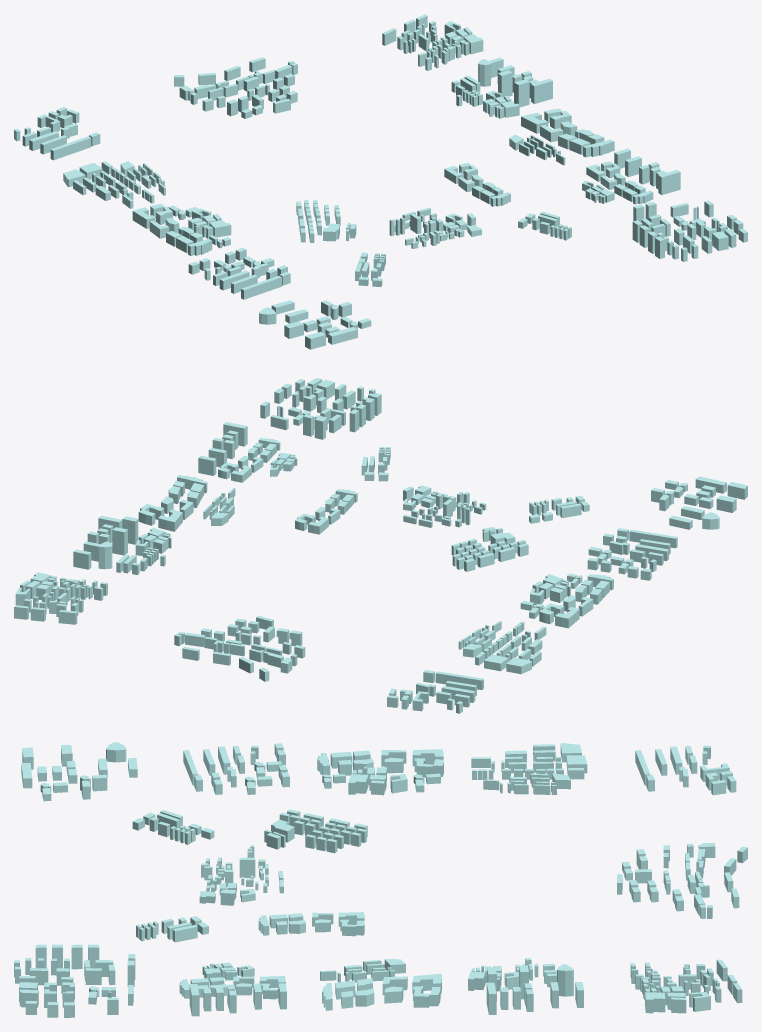
File: industrial-01.glb
3 renders of one model, top to bottom at view 1: azimuth 30°, elevation 25°; view 2: azimuth 150°, elevation 25°; view 3: azimuth 270°, elevation 25°, orthographic. The views are drawn at different scales.
Parts seen in each view (by area): view 1: Areas:building.018, Areas:building.001, Areas:building.020, Areas:building.021, Areas:building.010, Areas:building.009, Areas:building.023, Areas:building.011, Areas:building.016, Areas:building.015, Areas:building.062, Areas:building.027 (+11 smaller); view 2: Areas:building.018, Areas:building.021, Areas:building.001, Areas:building.023, Areas:building.009, Areas:building.010, Areas:building.020, Areas:building.011, Areas:building.015, Areas:building.016, Areas:building.025, Areas:building.062 (+11 smaller); view 3: Areas:building.018, Areas:building.020, Areas:building.010, Areas:building.001, Areas:building.011, Areas:building.023, Areas:building.025, Areas:building.009, Areas:building.027, Areas:building.021, Areas:building.022, Areas:building.016 (+16 smaller).
Boxes of the visible parts, left/top/right/bottom form: Areas:building.018: left=382, top=14, right=483, bottom=70; Areas:building.001: left=641, top=206, right=736, bottom=261; Areas:building.020: left=521, top=108, right=614, bottom=157; Areas:building.021: left=179, top=61, right=297, bottom=111; Areas:building.010: left=63, top=161, right=154, bottom=208; Areas:building.009: left=259, top=300, right=357, bottom=349; Areas:building.023: left=478, top=57, right=552, bottom=107; Areas:building.011: left=132, top=204, right=212, bottom=255; Areas:building.016: left=14, top=123, right=100, bottom=160; Areas:building.015: left=204, top=263, right=290, bottom=299; Areas:building.062: left=614, top=148, right=680, bottom=194; Areas:building.027: left=444, top=163, right=510, bottom=206; Areas:building.018: left=14, top=572, right=107, bottom=624; Areas:building.021: left=174, top=626, right=305, bottom=673; Areas:building.001: left=277, top=378, right=375, bottom=433; Areas:building.023: left=73, top=515, right=138, bottom=569; Areas:building.009: left=669, top=476, right=747, bottom=529; Areas:building.010: left=475, top=621, right=546, bottom=674; Areas:building.020: left=138, top=475, right=207, bottom=531; Areas:building.011: left=539, top=574, right=613, bottom=628; Areas:building.015: left=609, top=528, right=677, bottom=571; Areas:building.016: left=416, top=670, right=483, bottom=713; Areas:building.025: left=451, top=538, right=528, bottom=571; Areas:building.062: left=198, top=422, right=247, bottom=475; Areas:building.018: left=630, top=959, right=742, bottom=1013; Areas:building.020: left=322, top=973, right=441, bottom=1010; Areas:building.010: left=471, top=743, right=587, bottom=779; Areas:building.001: left=14, top=958, right=115, bottom=1007; Areas:building.011: left=317, top=749, right=443, bottom=777; Areas:building.023: left=486, top=964, right=583, bottom=1014; Areas:building.025: left=279, top=809, right=367, bottom=853; Areas:building.009: left=21, top=742, right=137, bottom=788; Areas:building.027: left=258, top=912, right=364, bottom=936; Areas:building.021: left=635, top=842, right=715, bottom=918; Areas:building.022: left=179, top=976, right=285, bottom=999; Areas:building.016: left=635, top=745, right=710, bottom=791.
Bounding box in the file's own units: 151 × 7.2 × 176.
